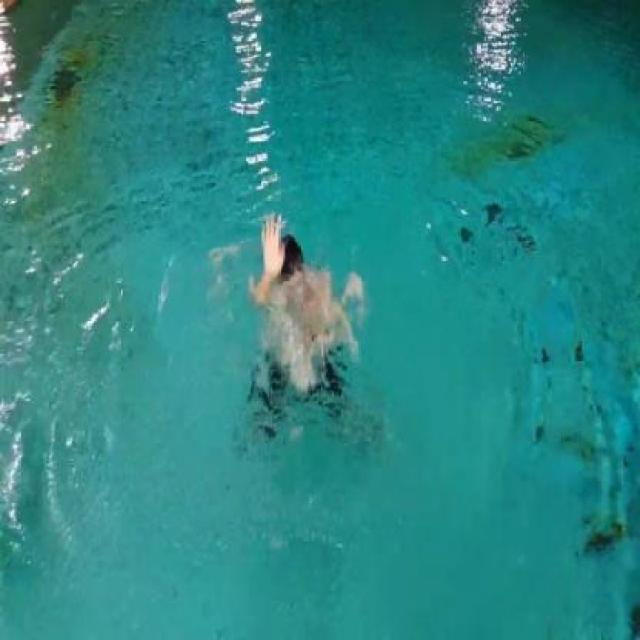Out of Water: (246, 205, 357, 372)
